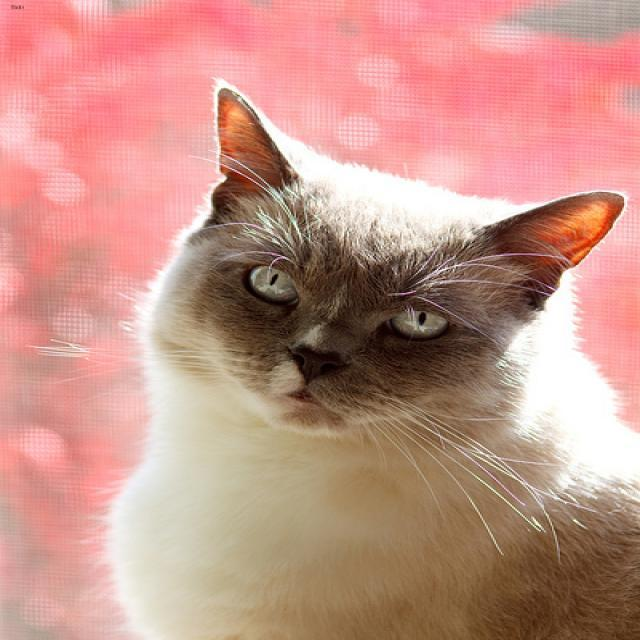Ragdoll: (138, 77, 640, 442)
